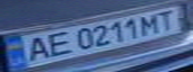0: (72, 25, 96, 52)
1: (106, 18, 127, 43), (121, 16, 142, 39)
2: (90, 21, 112, 48)
A: (18, 34, 54, 63)
E: (39, 29, 75, 58)
M: (136, 11, 163, 35)
T: (151, 8, 181, 33)
